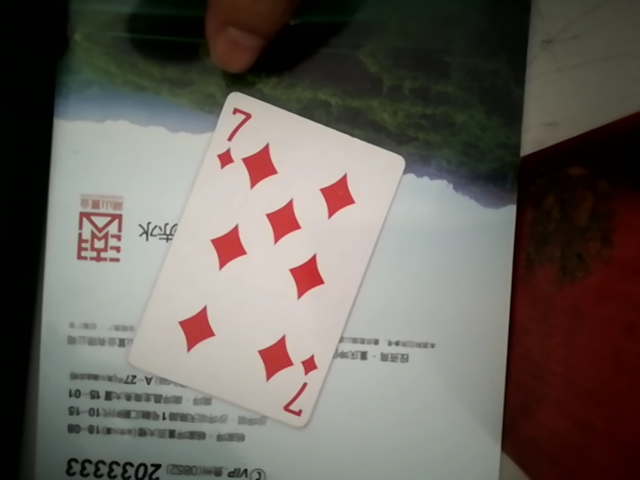fk 7: (128, 82, 398, 429)
